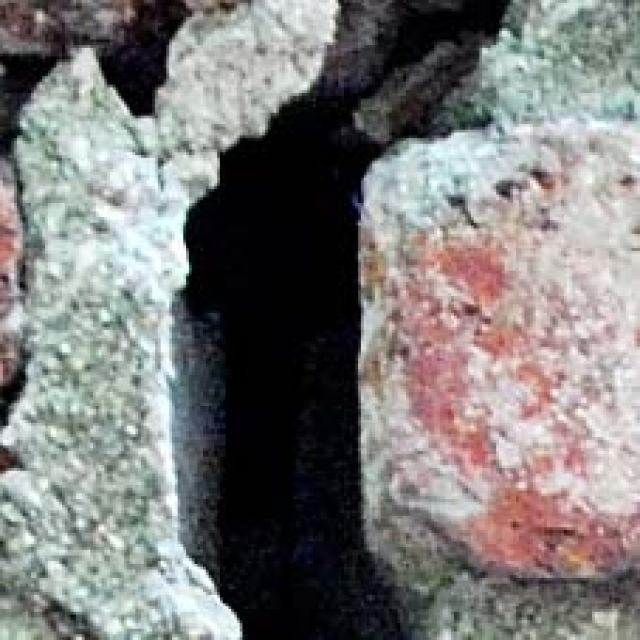Crack: (0, 4, 540, 640)
